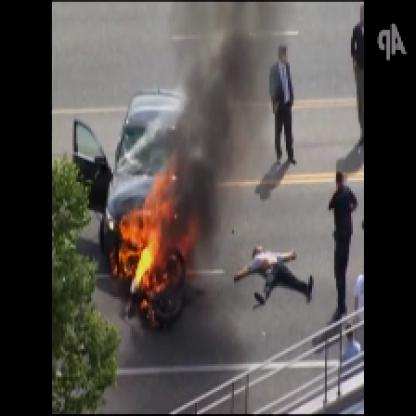Fire: (113, 150, 195, 318)
Smoke: (174, 2, 275, 243)
